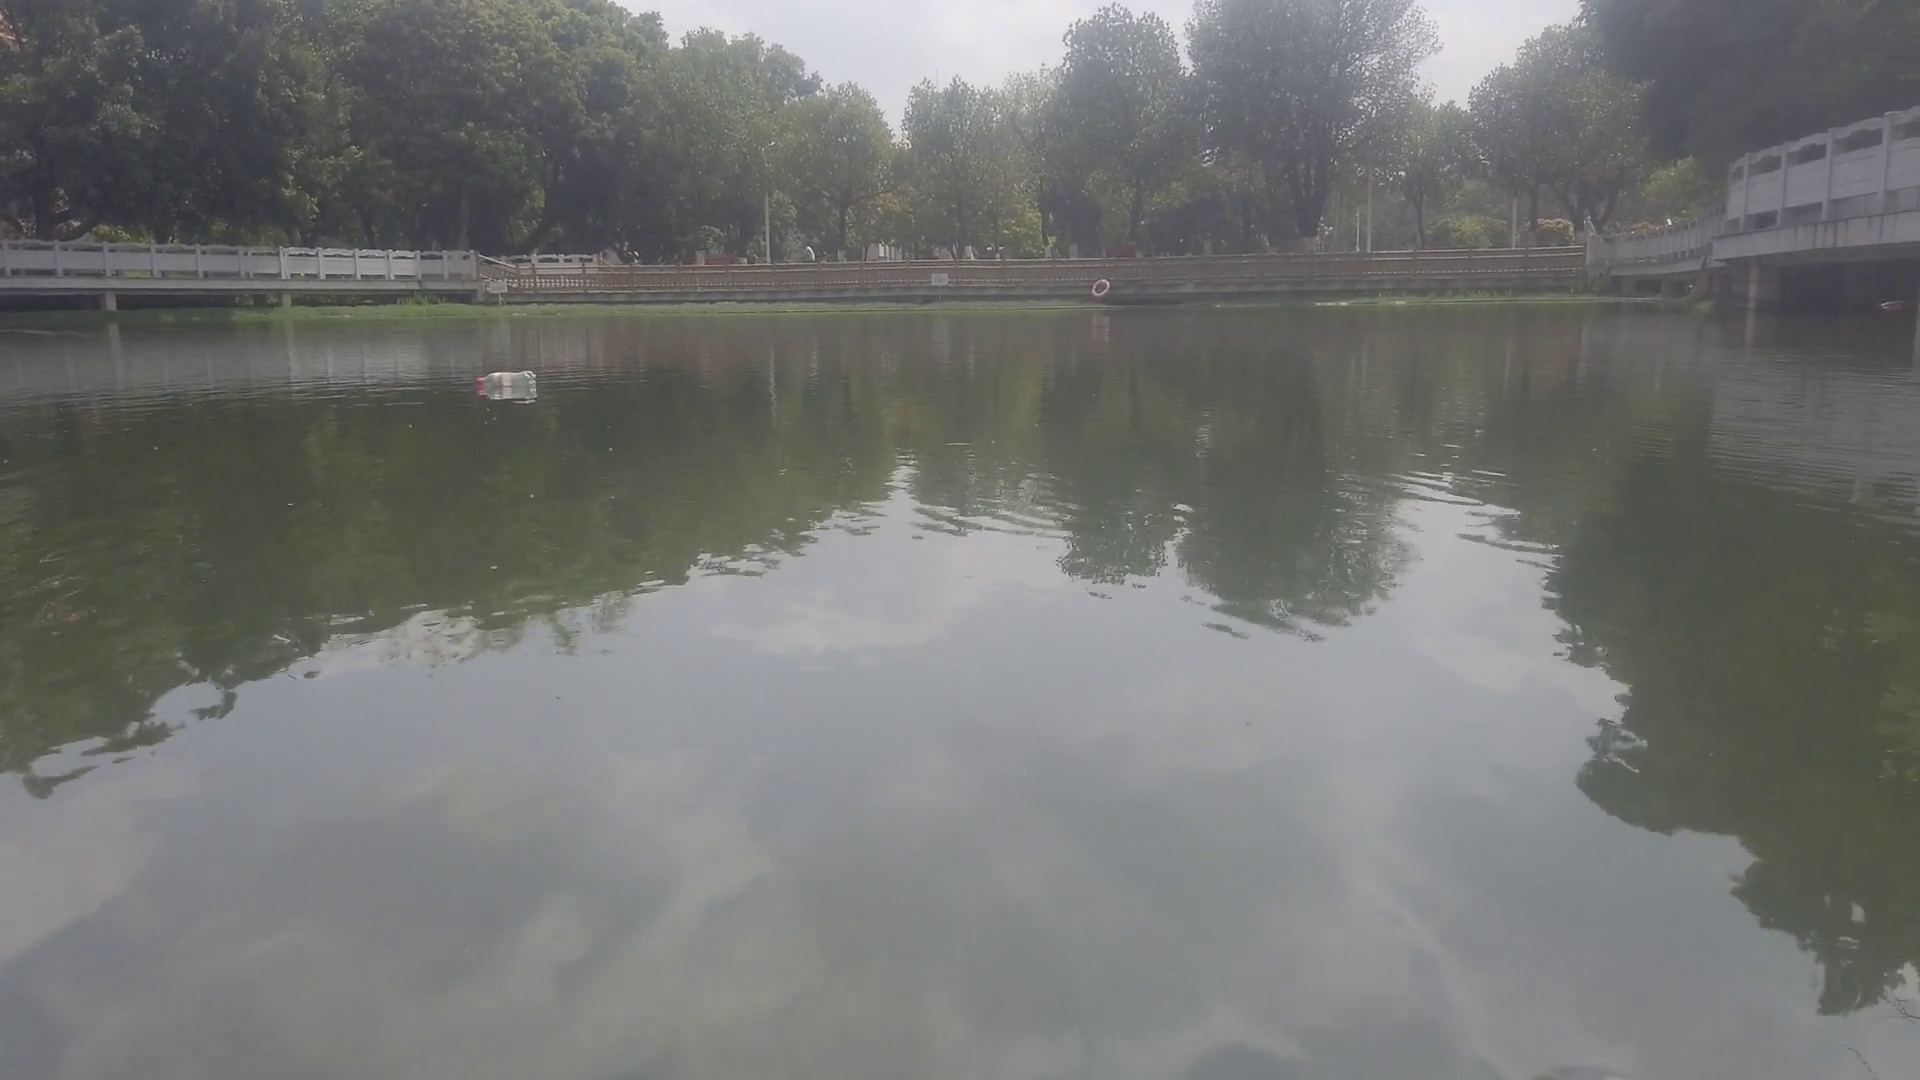bottle: (472, 371, 535, 388)
